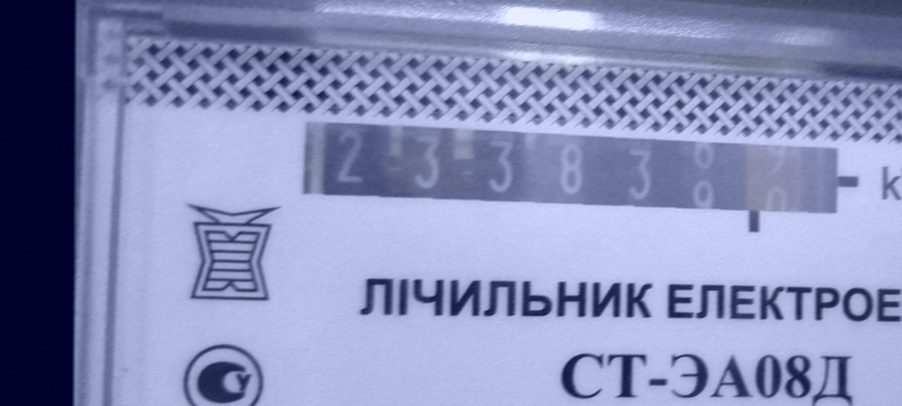0: (762, 183, 788, 217)
2: (330, 125, 368, 185)
3: (481, 133, 517, 196), (412, 131, 440, 189), (625, 143, 653, 200)
8: (553, 138, 587, 196), (690, 137, 716, 169)
9: (760, 139, 790, 178), (688, 175, 717, 212)
screen: (273, 98, 866, 258)
